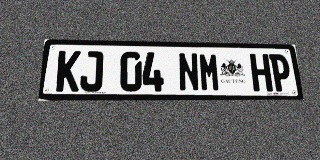0: (120, 52, 142, 92)
4: (142, 52, 164, 92)
H: (250, 54, 273, 91)
J: (79, 51, 104, 92)
K: (55, 50, 81, 92)
M: (198, 53, 221, 91)
N: (178, 52, 200, 91)
P: (269, 54, 293, 91)
